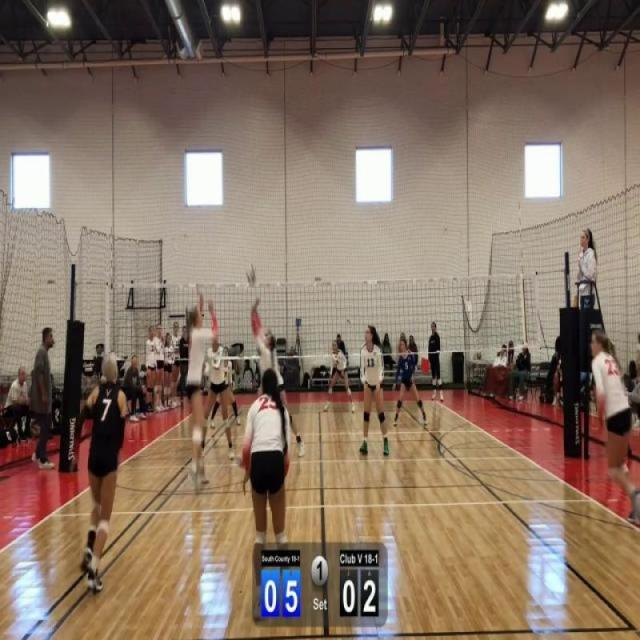volleyball: (245, 260, 258, 288)
